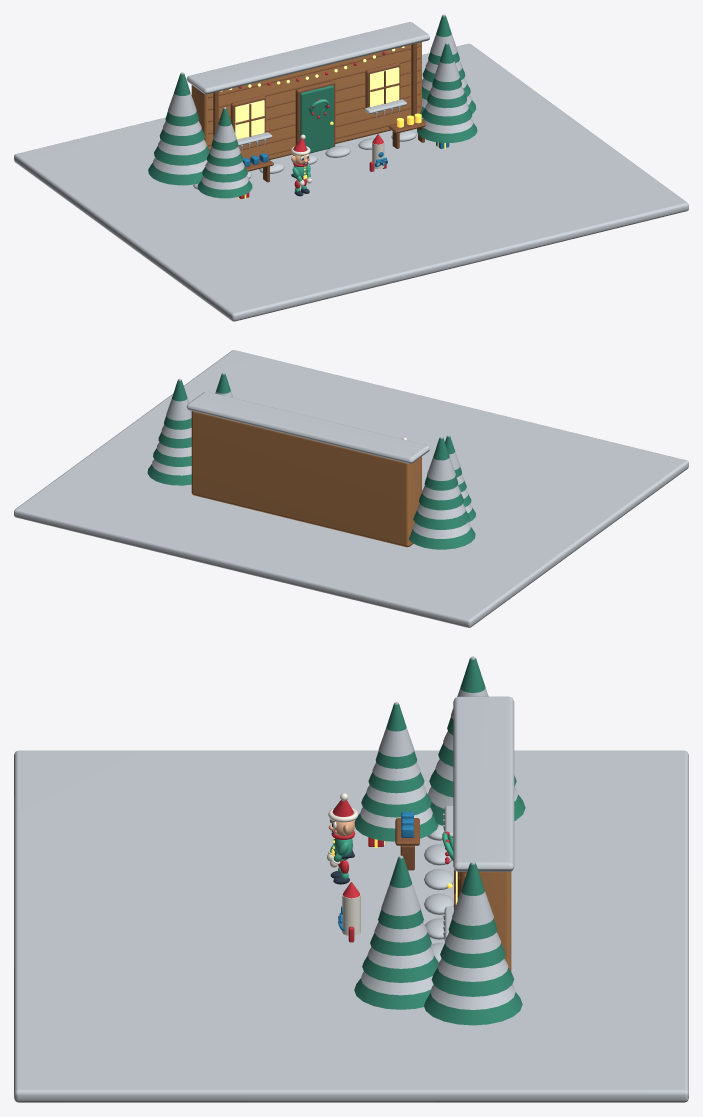
The model's file is chapter-13.glb.
The picture shows the model from 3 angles, top to bottom: view 1: azimuth 30°, elevation 25°; view 2: azimuth 150°, elevation 25°; view 3: azimuth 270°, elevation 25°; orthographic projection. The views are drawn at different scales.
Visible parts, largest first — view 1: Schneeboden, Werkstatt, Schneegesims, Wichteltür, Warmes Fenster, Warmes Fenster.001, Tannenzweig.008, Tannenzweig.009, Türrahmen, Tannenzweig.004, Tannenzweig.011, Schnee.011 (+6 smaller); view 2: Schneeboden, Werkstatt, Schneegesims, Tannenzweig.008, Tannenzweig.009, Tannenzweig.011, Schnee.008, Schnee.011, Tannenzweig.015, Tannenzweig.012, Tannenzweig.010, Schnee.009 (+1 smaller); view 3: Schneeboden, Schneegesims, Werkstatt, Tannenzweig.012, Tannenzweig.013, Tannenzweig.015, Schnee.012, Tannenzweig.005, Tannenzweig.004, Schnee.015, Tannenzweig.007, Schnee.013 (+15 smaller).
Part boxes in pixels (x1=…): Schneeboden: x1=14, y1=43, x2=688, y2=321; Werkstatt: x1=191, y1=42, x2=421, y2=160; Schneegesims: x1=186, y1=22, x2=429, y2=94; Wichteltür: x1=300, y1=85, x2=333, y2=153; Warmes Fenster: x1=235, y1=100, x2=264, y2=139; Warmes Fenster.001: x1=370, y1=67, x2=399, y2=106; Tannenzweig.008: x1=148, y1=163, x2=202, y2=185; Tannenzweig.009: x1=154, y1=146, x2=209, y2=165; Türrahmen: x1=295, y1=81, x2=335, y2=146; Tannenzweig.004: x1=417, y1=122, x2=477, y2=142; Tannenzweig.011: x1=165, y1=73, x2=198, y2=126; Schnee.011: x1=168, y1=72, x2=196, y2=116; Schneeboden: x1=14, y1=350, x2=688, y2=627; Werkstatt: x1=191, y1=411, x2=421, y2=547; Schneegesims: x1=186, y1=391, x2=429, y2=463; Tannenzweig.008: x1=408, y1=527, x2=475, y2=549; Tannenzweig.009: x1=413, y1=510, x2=469, y2=529; Tannenzweig.011: x1=424, y1=437, x2=458, y2=490; Schnee.008: x1=412, y1=522, x2=470, y2=538; Schnee.011: x1=427, y1=436, x2=455, y2=480; Tannenzweig.015: x1=164, y1=380, x2=191, y2=429; Tannenzweig.012: x1=147, y1=464, x2=191, y2=485; Tannenzweig.010: x1=419, y1=493, x2=463, y2=510; Schnee.009: x1=417, y1=504, x2=465, y2=519; Schneeboden: x1=14, y1=750, x2=688, y2=1102; Schneegesims: x1=453, y1=696, x2=514, y2=871; Werkstatt: x1=466, y1=871, x2=511, y2=971; Tannenzweig.012: x1=424, y1=992, x2=522, y2=1025; Tannenzweig.013: x1=431, y1=968, x2=514, y2=996; Tannenzweig.015: x1=448, y1=863, x2=497, y2=939; Schnee.012: x1=430, y1=985, x2=515, y2=1009; Tannenzweig.005: x1=362, y1=955, x2=438, y2=982; Tannenzweig.004: x1=354, y1=978, x2=430, y2=1009; Schnee.015: x1=452, y1=861, x2=493, y2=925; Tannenzweig.007: x1=378, y1=857, x2=423, y2=929; Schnee.013: x1=437, y1=959, x2=508, y2=981.
Size of the model in its own units: 18 by 4.39 by 15.
